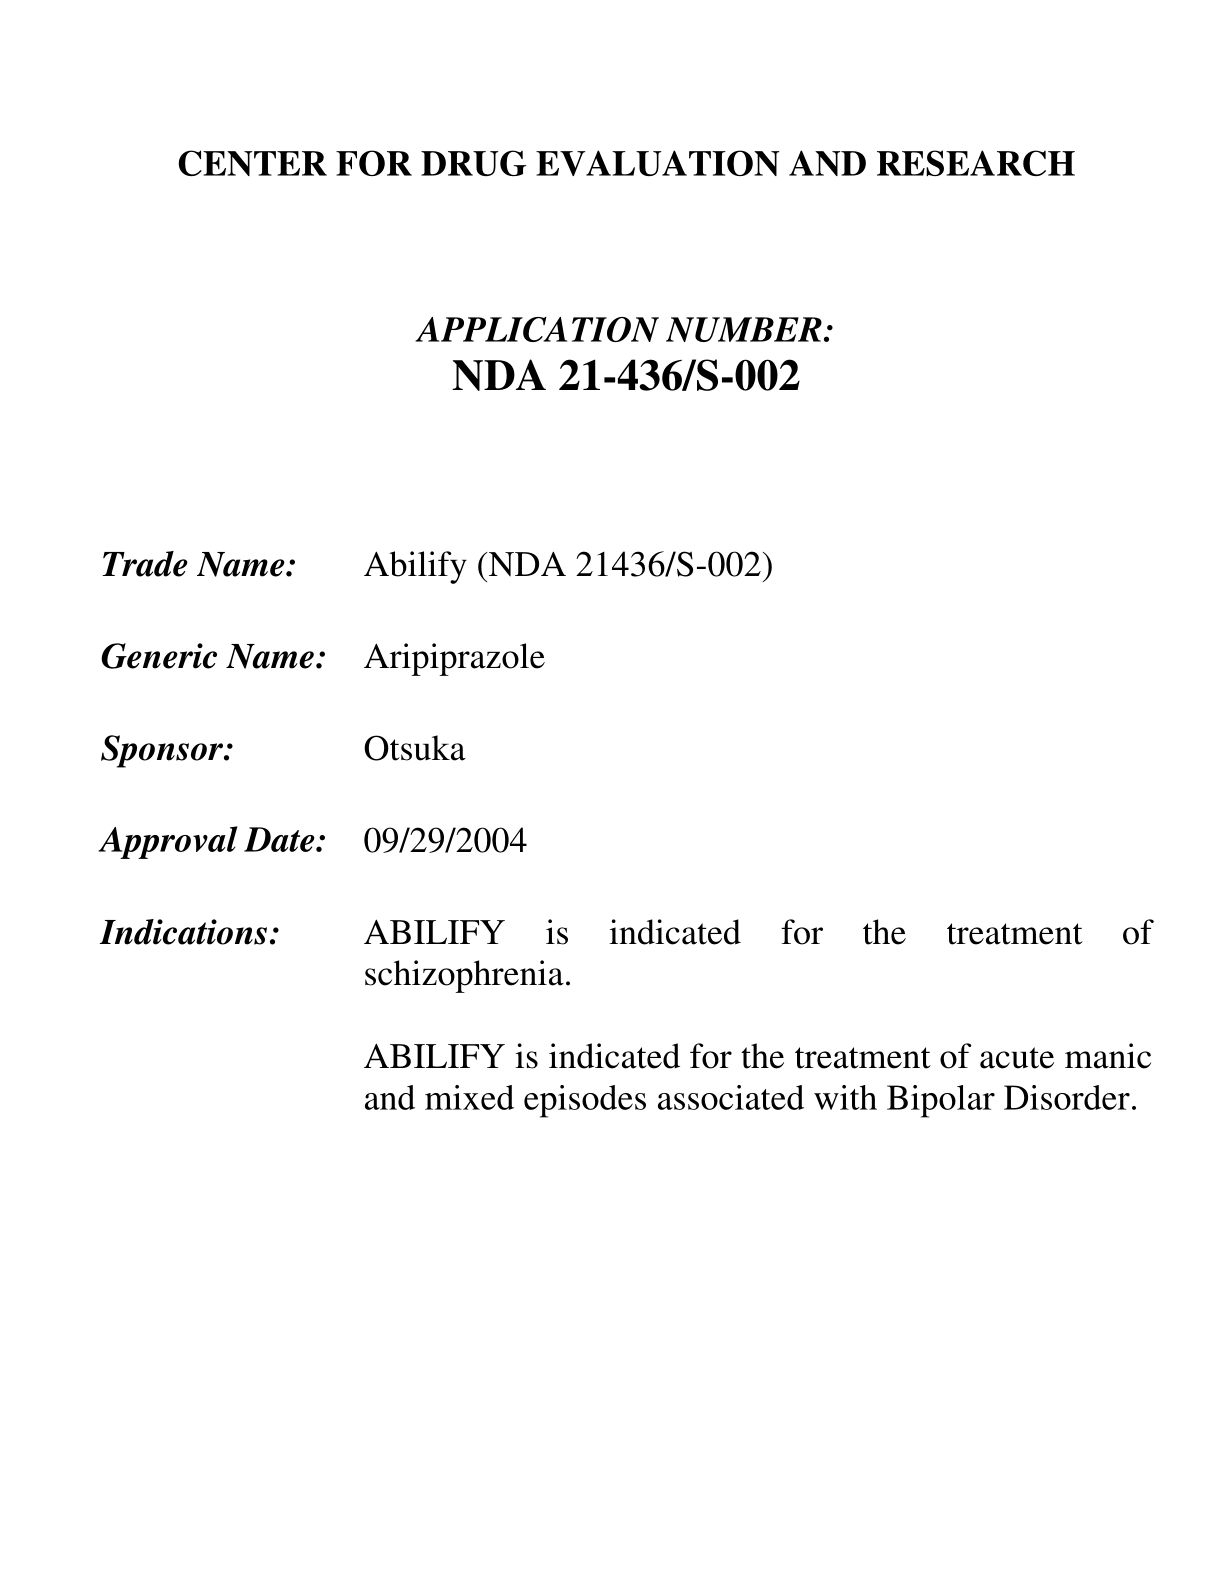nolines: (95, 545, 1156, 1119)
